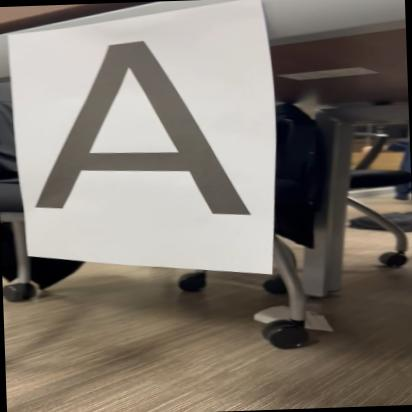seat: (23, 37, 258, 226)
